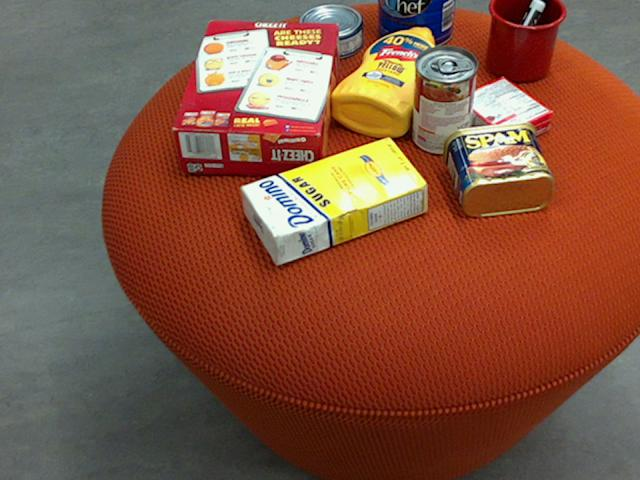cracker_box: (169, 20, 339, 176)
gelatin_box: (456, 77, 553, 150)
large_marker: (497, 0, 545, 71)
master_chef_can: (377, 0, 455, 47)
mug: (485, 0, 566, 80)
mustard_bottle: (329, 26, 441, 136)
potted_meat_can: (441, 120, 553, 216)
sugar_box: (239, 135, 428, 266)
tomato_soup_can: (412, 44, 476, 153)
tuna_fish_can: (297, 3, 362, 57)
